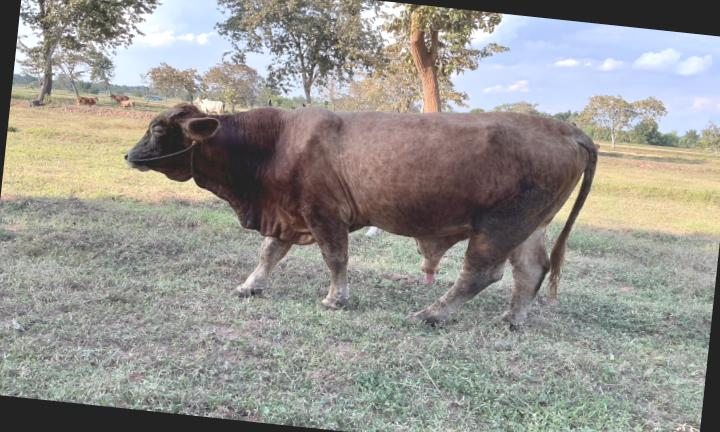Charolais: (124, 104, 597, 325)
